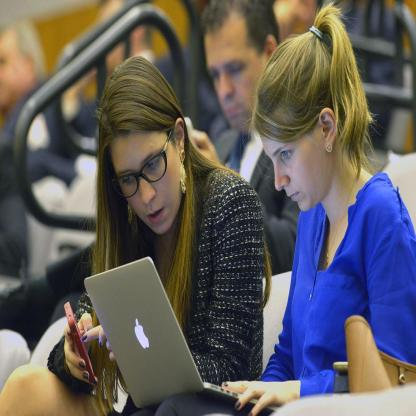board: (82, 257, 280, 410)
